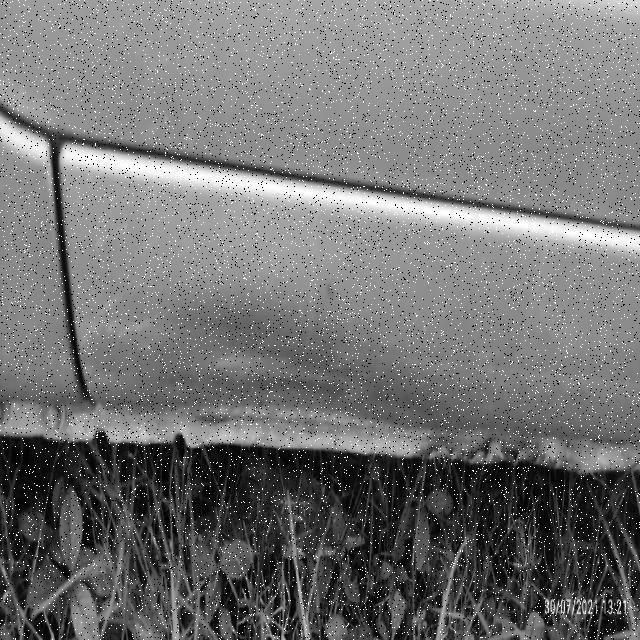Runningboard-Damage: (55, 123, 606, 490)
